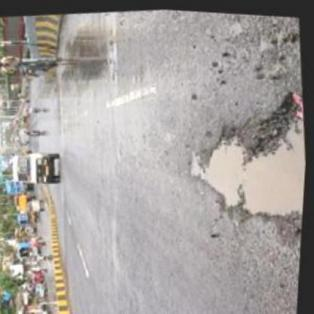Hueco: (184, 80, 310, 253)
